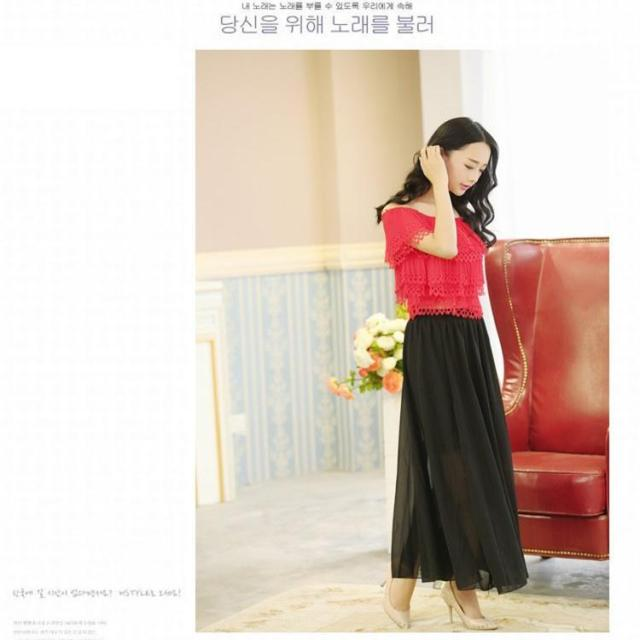short sleeve top: (382, 214, 489, 317)
skirt: (394, 308, 528, 589)
